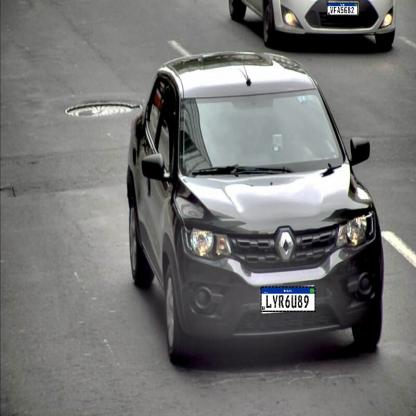PlacaM: (260, 286, 316, 312), (327, 3, 358, 15)
